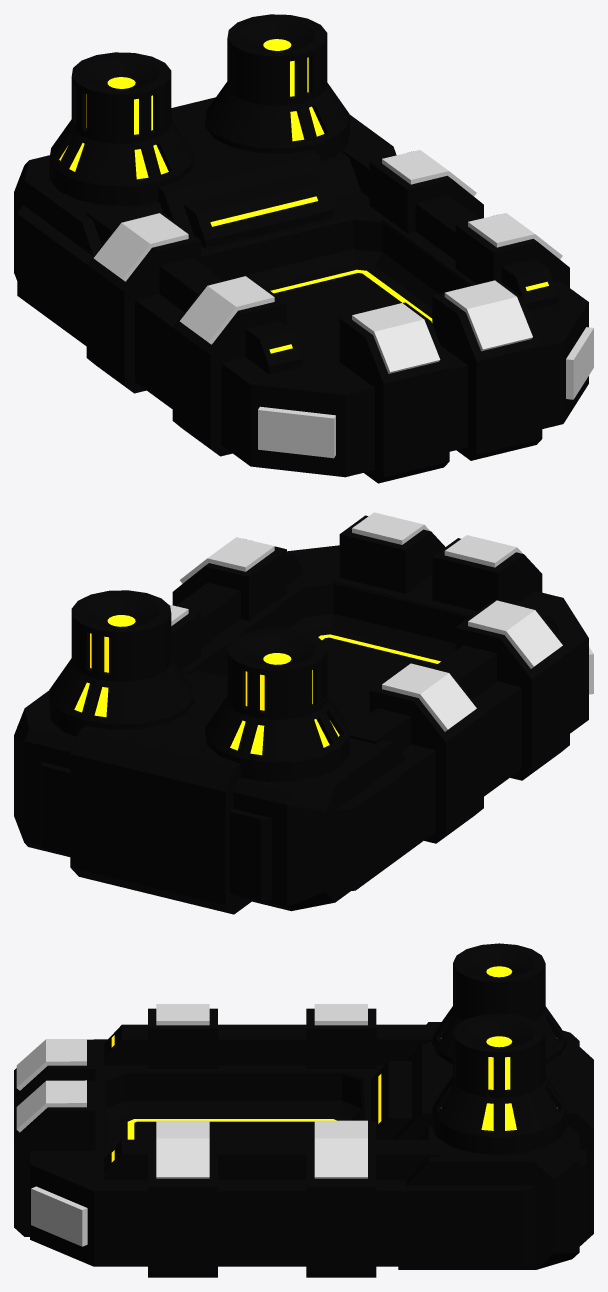
File: 01_yard_mining.glb
3 views of the same model, one above another, from view 1: azimuth 30°, elevation 25°; view 2: azimuth 150°, elevation 25°; view 3: azimuth 270°, elevation 25° (orthographic). The views are drawn at different scales.
Parts seen in each view (by area): view 1: 01_yard_mining; view 2: 01_yard_mining; view 3: 01_yard_mining.
Boxes of the visible parts, left/top/right/bottom form: 01_yard_mining: left=14, top=14, right=593, bottom=483; 01_yard_mining: left=14, top=512, right=593, bottom=914; 01_yard_mining: left=14, top=943, right=593, bottom=1277.
Bounding box in the file's own units: 0.6583 × 0.4094 × 1.
